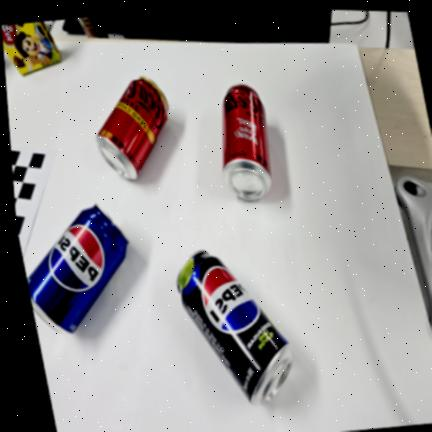can_coke_decaf: (96, 76, 168, 179)
can_coke_zero: (222, 84, 271, 199)
can_pepsi: (27, 204, 129, 333)
can_pepsi_zero: (177, 250, 292, 405)
